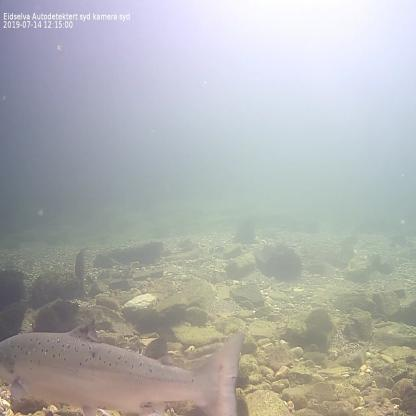salmon: (0, 314, 250, 415)
